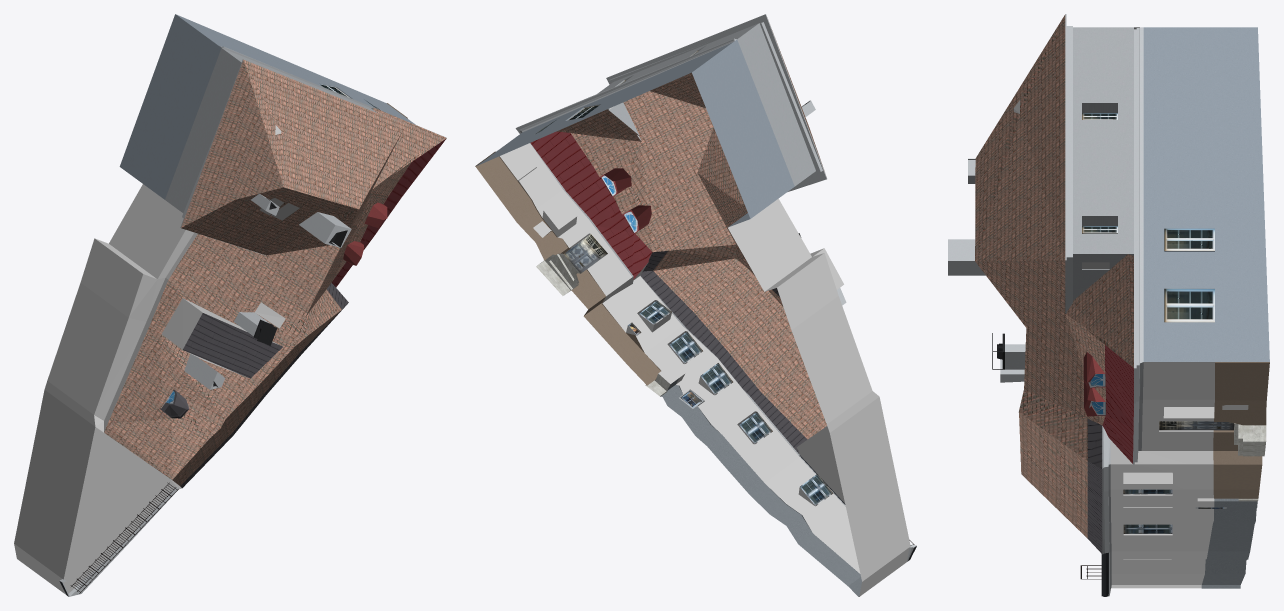
Rendered from Olevimagi_13-origo.obj.
3 renders of one model, left to right at view 1: azimuth 30°, elevation 25°; view 2: azimuth 150°, elevation 25°; view 3: azimuth 270°, elevation 25°, orthographic. The views are drawn at different scales.
Parts seen in each view (by area): view 1: Olevim2gi_13; view 2: Olevim2gi_13; view 3: Olevim2gi_13.
Part boxes in pixels (x1,y1,x2,y2): Olevim2gi_13: (14,14,446,596); Olevim2gi_13: (475,14,916,596); Olevim2gi_13: (948,14,1269,596).
Bounding box in the file's own units: 25.81 × 31.5 × 13.53.
